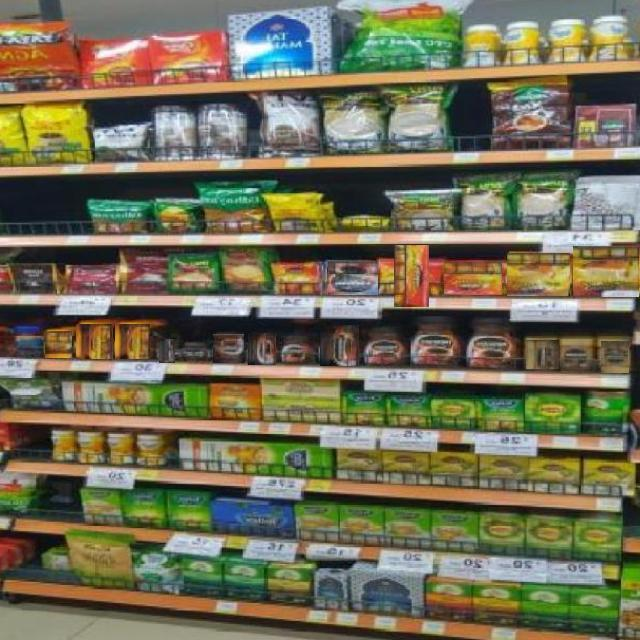Coffee: (573, 246, 639, 297), (506, 252, 570, 296), (467, 319, 518, 370), (411, 317, 462, 367), (394, 245, 429, 307), (444, 261, 502, 295), (326, 261, 378, 295), (362, 328, 406, 366), (321, 325, 359, 366), (76, 323, 113, 359), (116, 324, 150, 359), (562, 340, 594, 372), (526, 340, 559, 369), (600, 340, 629, 373), (212, 334, 244, 363), (248, 333, 276, 365), (281, 336, 312, 364), (44, 331, 72, 358), (181, 343, 206, 359), (160, 339, 175, 363)
